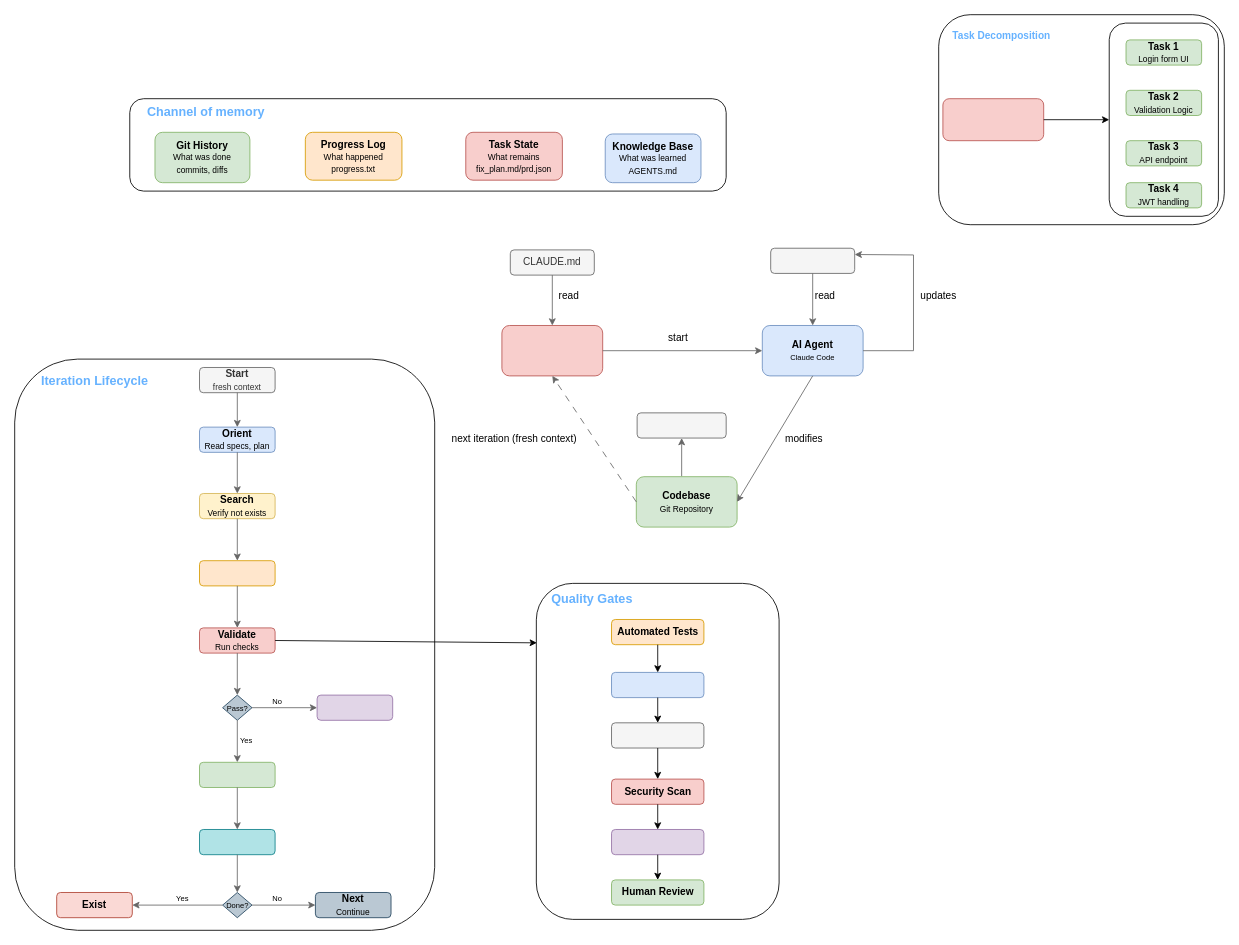
This 1239x945 diagram has some shape labels left out. The shapes that lost their labels are listed below. From the top down, each one's centre as x and y in pixels, then its label:
At point 993,119: "Large Task Build authentication system".
At point 812,260: "fix_plan.md".
At point 552,350: "ralph.sh Loop Controler".
At point 681,425: "AGENTS.md".
At point 237,573: "Implement One item only".
At point 657,685: "Type Checking".
At point 354,707: "Fix issues".
At point 657,735: "Linting".
At point 237,774: "Commit Update plan".
At point 237,842: "Learn Record patterns".
At point 657,842: "LLM-as-Judge".
